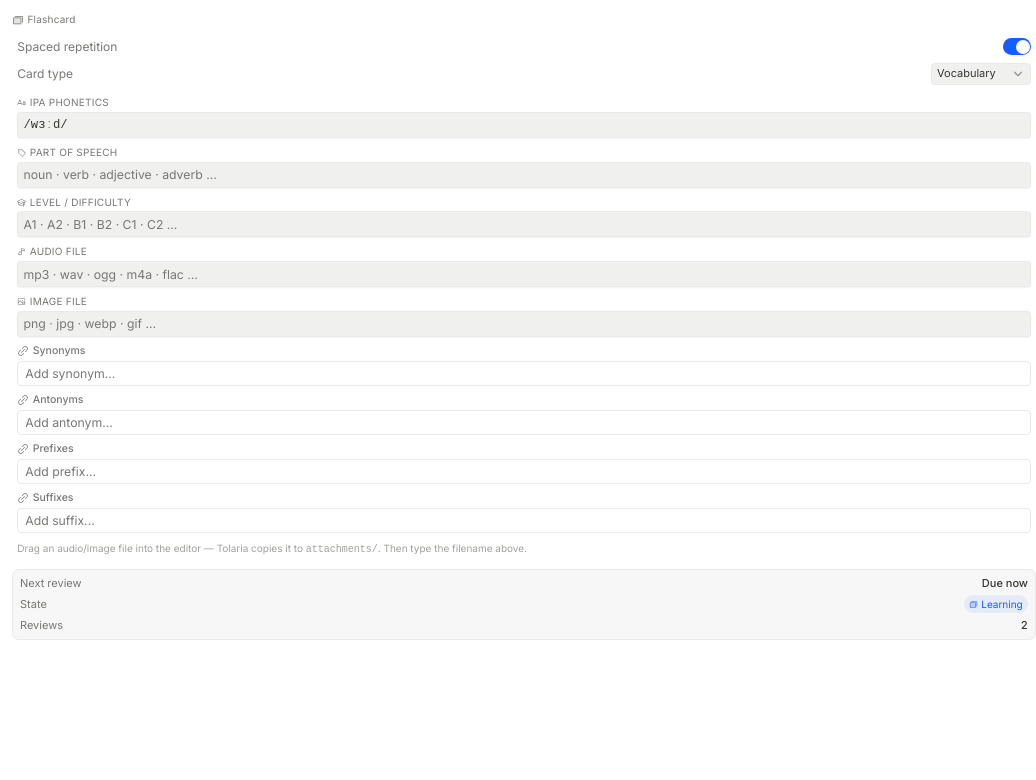
FlashcardPanel › reverts IPA draft on Escape
Replace the text in the field labelled "IPA phonetics" with "/changed/": [524, 125] box top-left (17, 112), bottom-right (1031, 138)
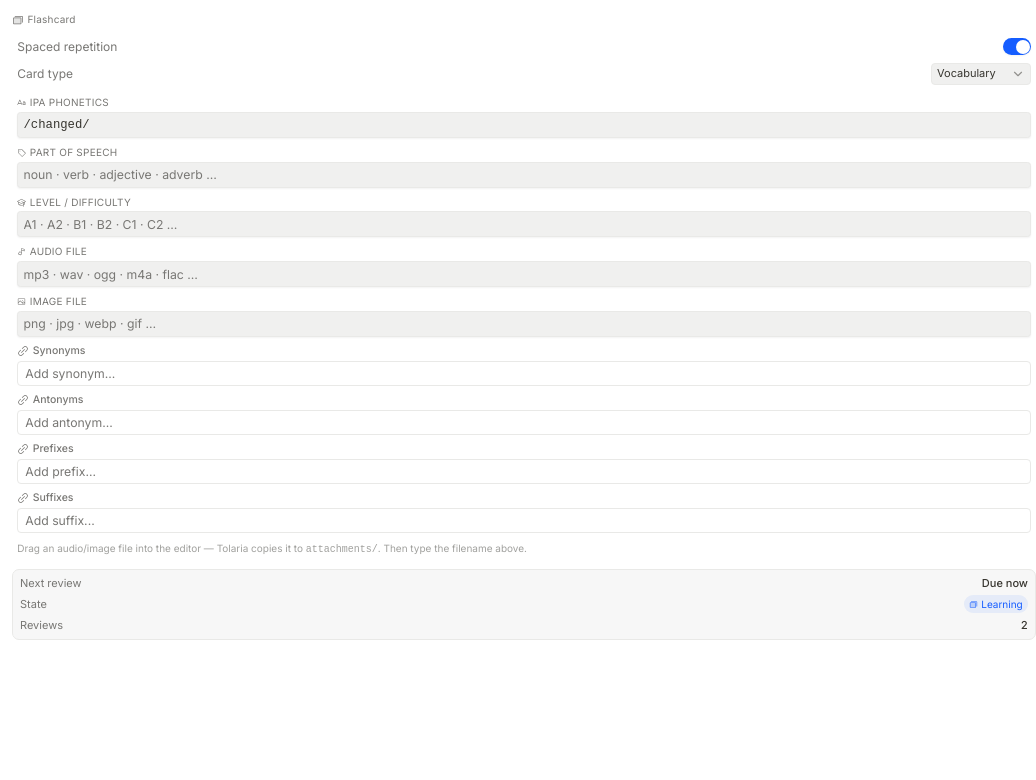
Press Escape in the field labelled "IPA phonetics", box top-left (17, 112), bottom-right (1031, 138)
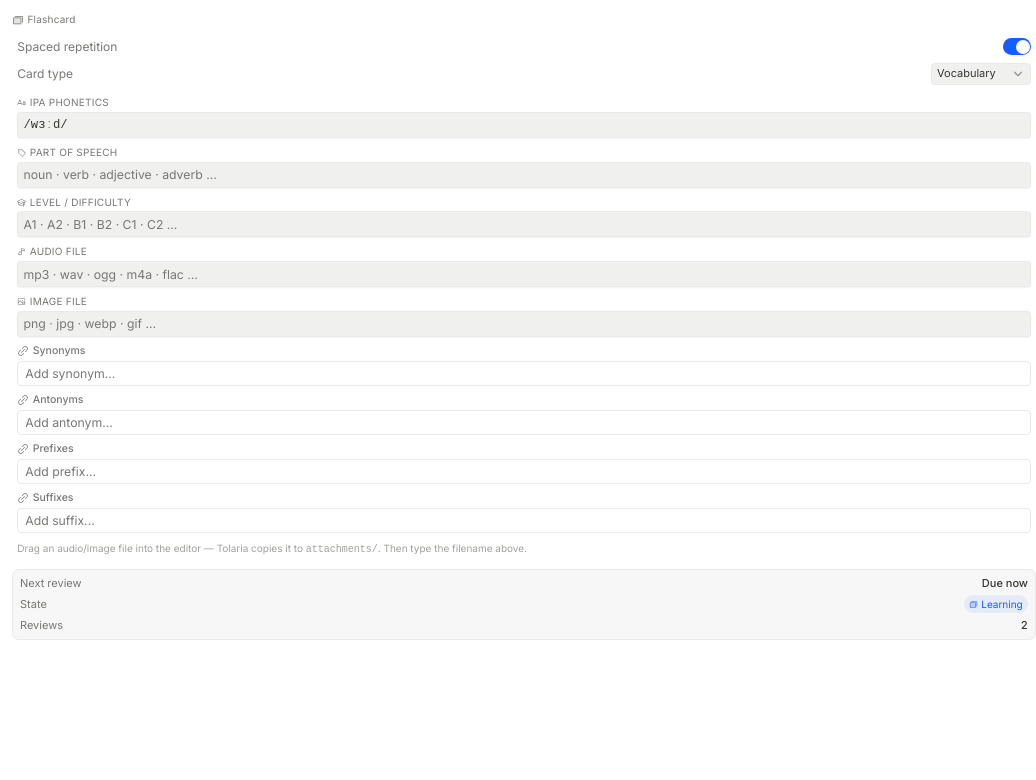
Result: the field labelled "IPA phonetics" holds "/wɜːd/" at top-left (17, 112), bottom-right (1031, 138)
